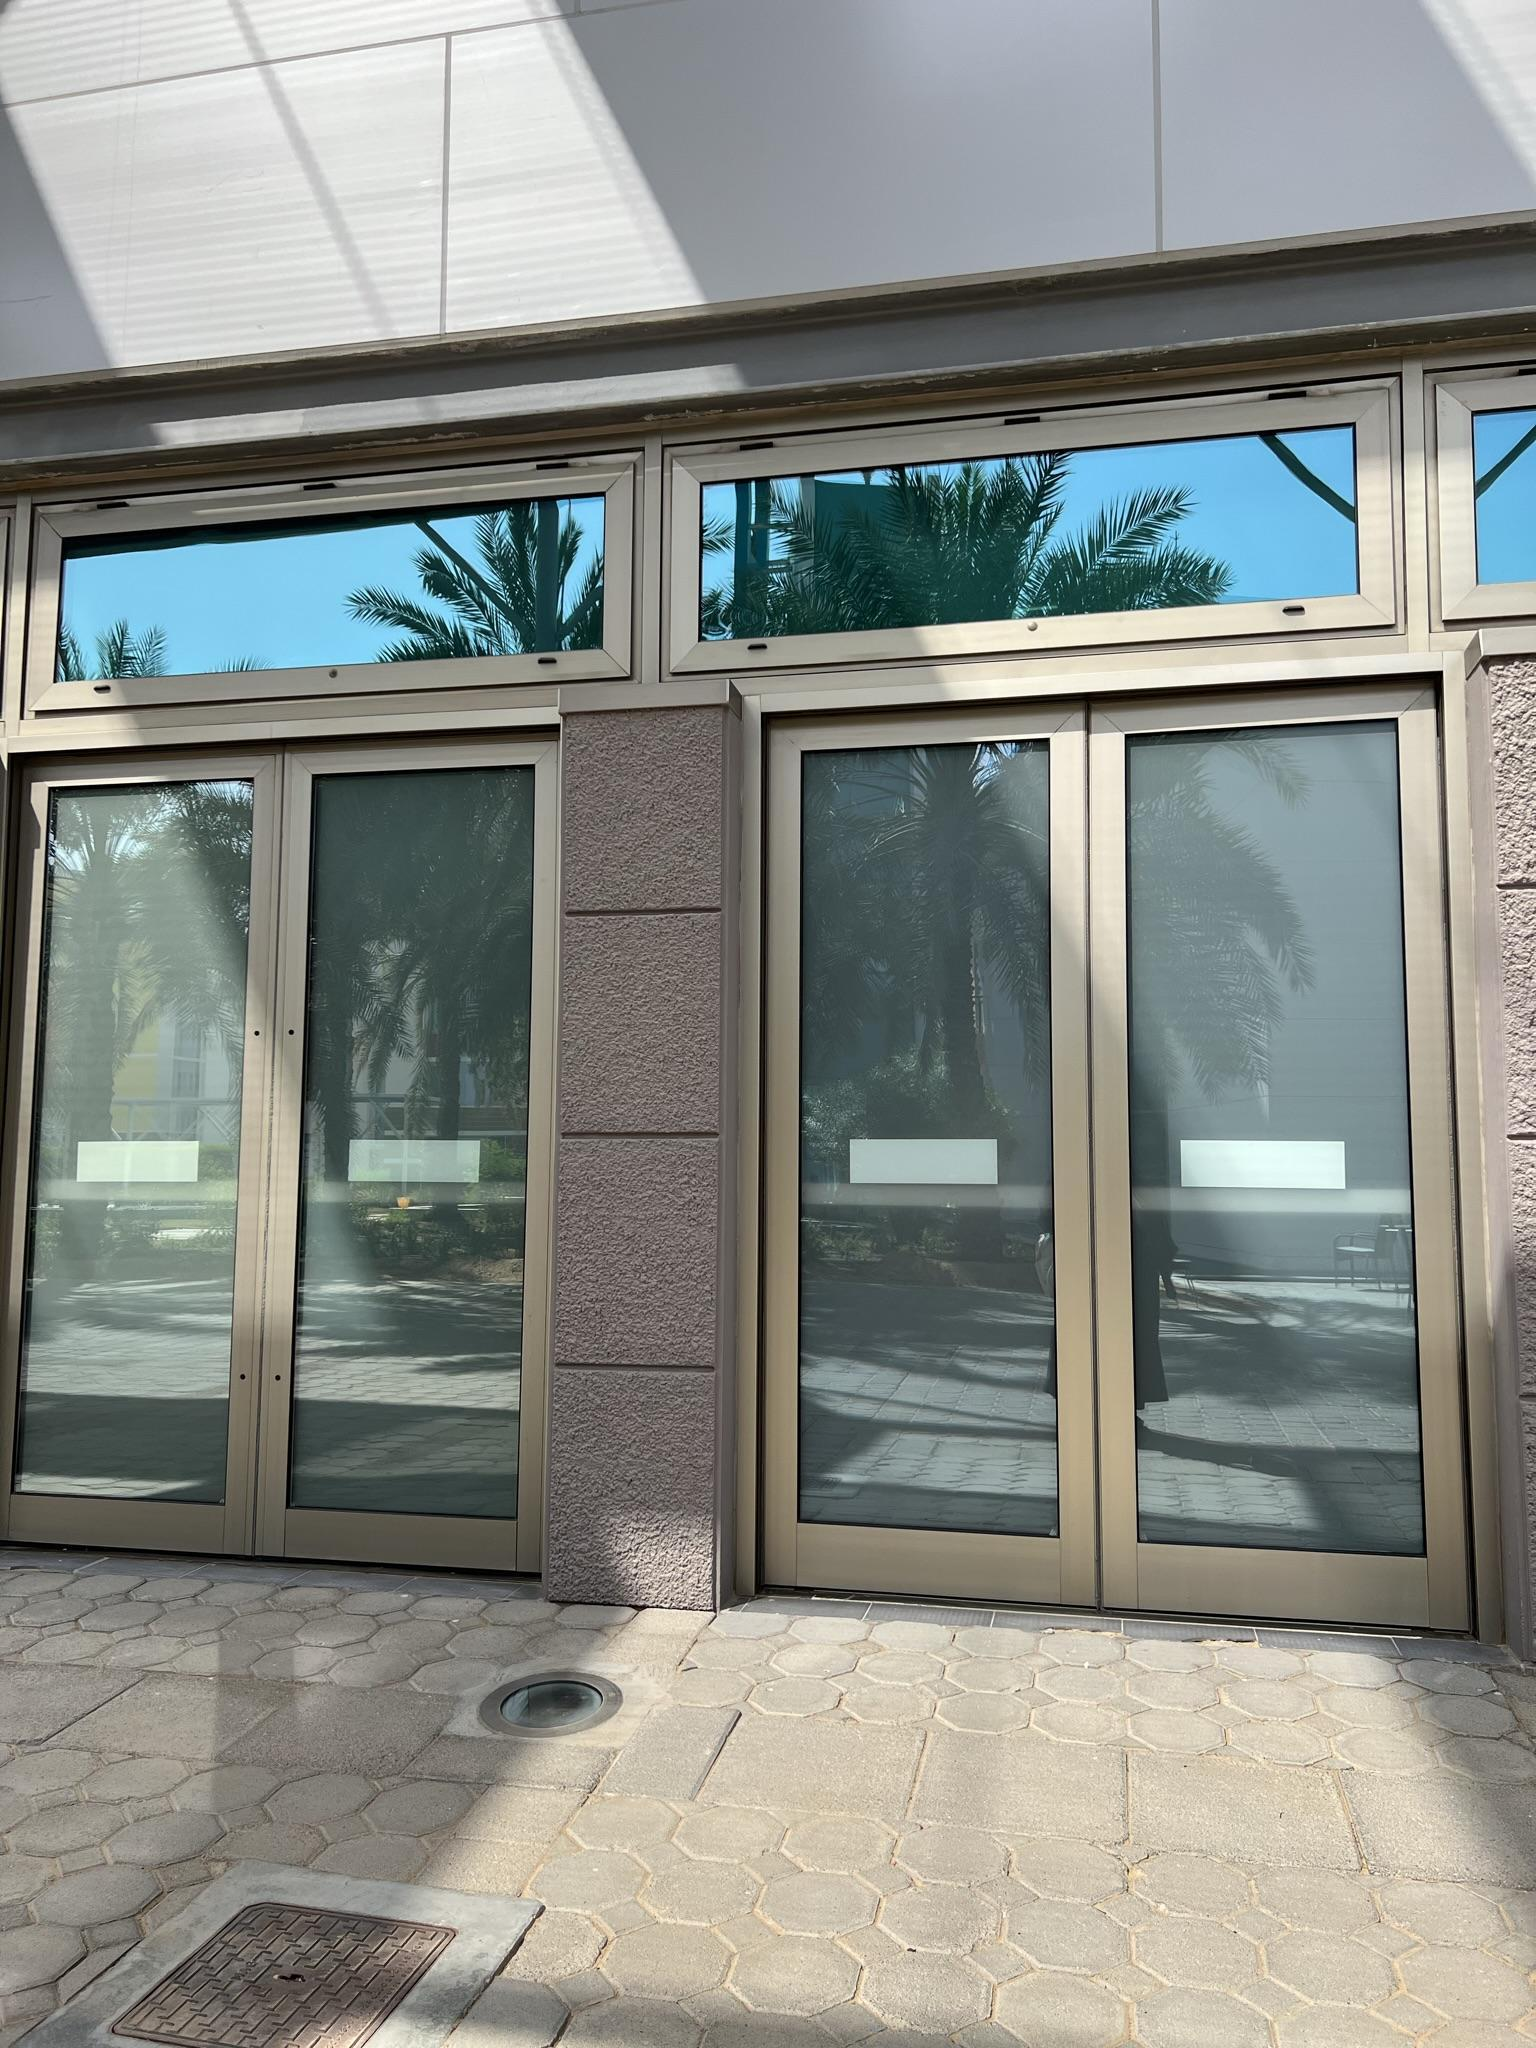door: (1102, 681, 1469, 1602), (782, 701, 1093, 1590), (27, 766, 293, 1566), (302, 746, 529, 1574)
